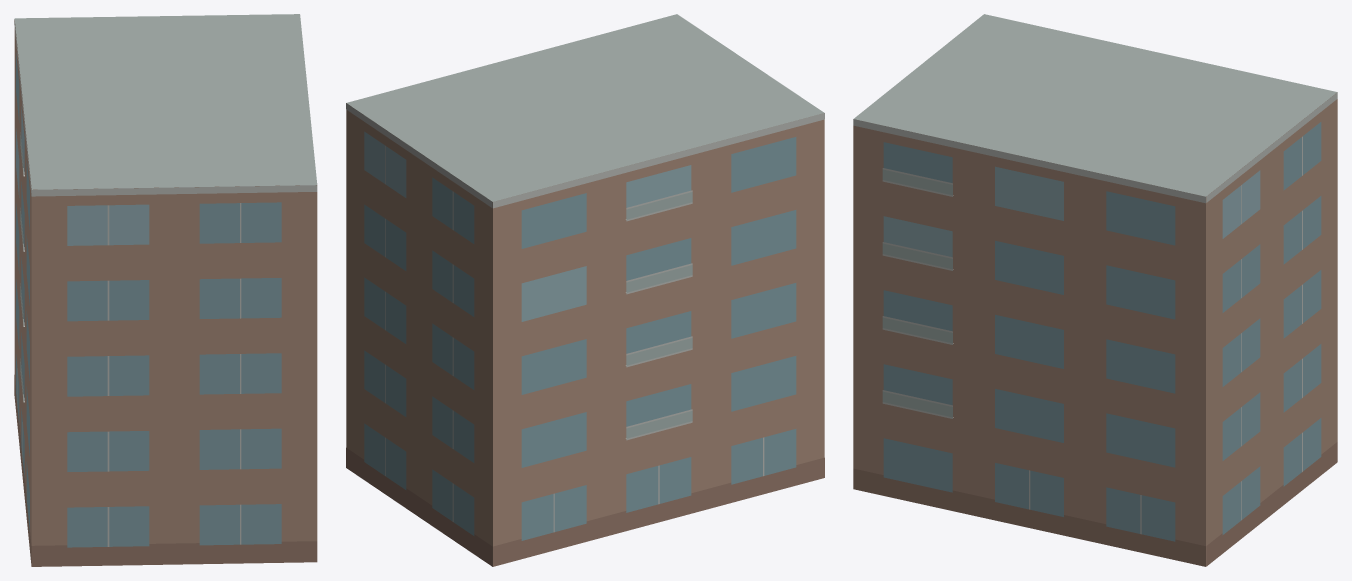
Rendered from survey-upis-32842966.glb.
3 renders of one model, left to right at view 1: azimuth 30°, elevation 25°; view 2: azimuth 150°, elevation 25°; view 3: azimuth 270°, elevation 25°, orthographic. The views are drawn at different scales.
Parts seen in each view (by area): view 1: survey-upis-32842966.tmp; view 2: survey-upis-32842966.tmp; view 3: survey-upis-32842966.tmp.
Boxes of the visible parts, x1,y1,x2,y2 form: survey-upis-32842966.tmp: (14, 14, 317, 566); survey-upis-32842966.tmp: (346, 14, 824, 566); survey-upis-32842966.tmp: (853, 14, 1337, 566).
Bounding box in the file's own units: 14.46 × 13.65 × 16.19.
